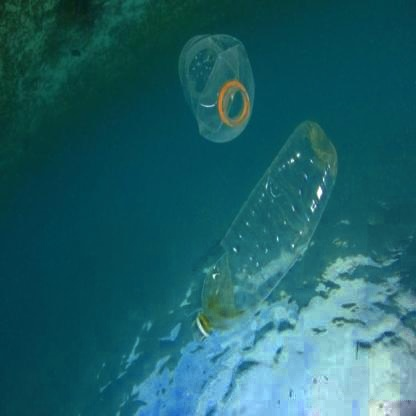pbottle: (184, 116, 348, 353), (174, 30, 264, 146)
